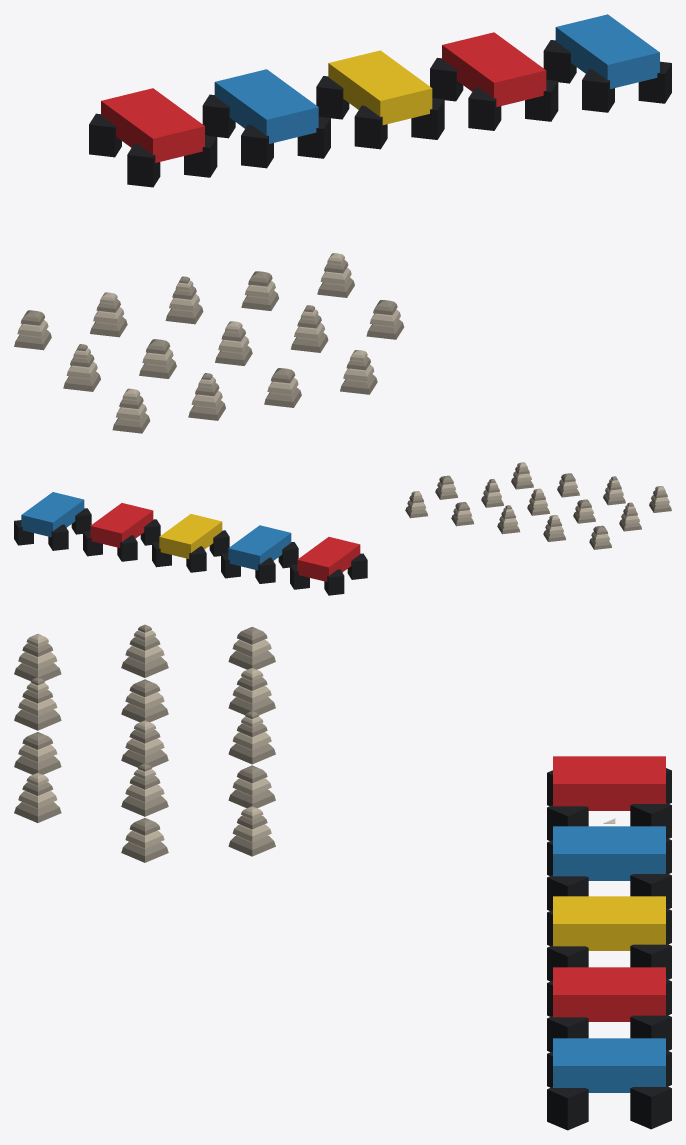
File: bushi_atvs.glb
3 renders of one model, top to bottom at view 1: azimuth 30°, elevation 25°; view 2: azimuth 150°, elevation 25°; view 3: azimuth 270°, elevation 25°, orthographic. The views are drawn at different scales.
Parts seen in each view (by area): view 1: bushi_atvs_lod0; view 2: bushi_atvs_lod0; view 3: bushi_atvs_lod0.
Part boxes in pixels (<box>): bushi_atvs_lod0: <box>14,14,671,433</box>; bushi_atvs_lod0: <box>14,462,671,595</box>; bushi_atvs_lod0: <box>14,624,671,1130</box>.
Size of what is drawn, in the model's own units: 16.95 by 1.76 by 11.05.
